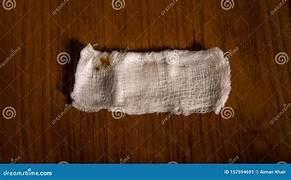cotton: (71, 44, 230, 114)
